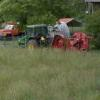Tractor: (20, 15, 95, 57)
